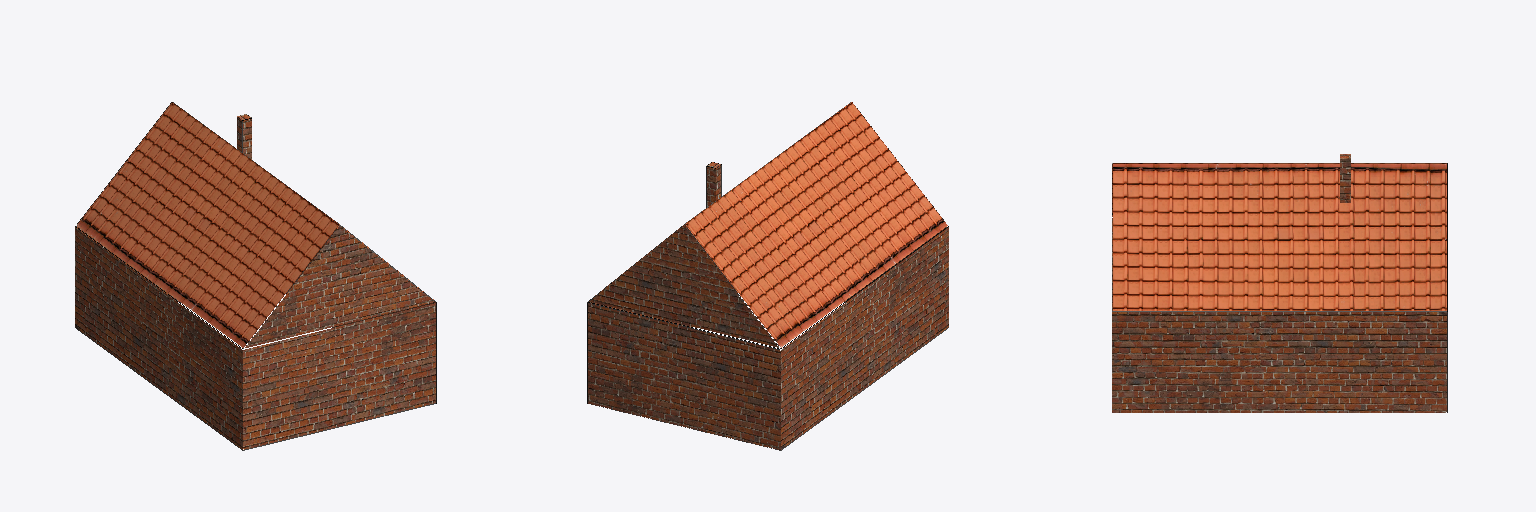
3 views of the same model, side by side, from view 1: azimuth 30°, elevation 25°; view 2: azimuth 150°, elevation 25°; view 3: azimuth 270°, elevation 25° (orthographic).
Parts seen in each view (by area): view 1: Cube.001; view 2: Cube.001; view 3: Cube.001.
Boxes of the visible parts, x1=… form: Cube.001: x1=75, y1=102, x2=436, y2=450; Cube.001: x1=587, y1=102, x2=948, y2=450; Cube.001: x1=1112, y1=154, x2=1447, y2=412.
Bounding box in the file's own units: 4 × 4.33 × 6.
1 materials, 1 textured.